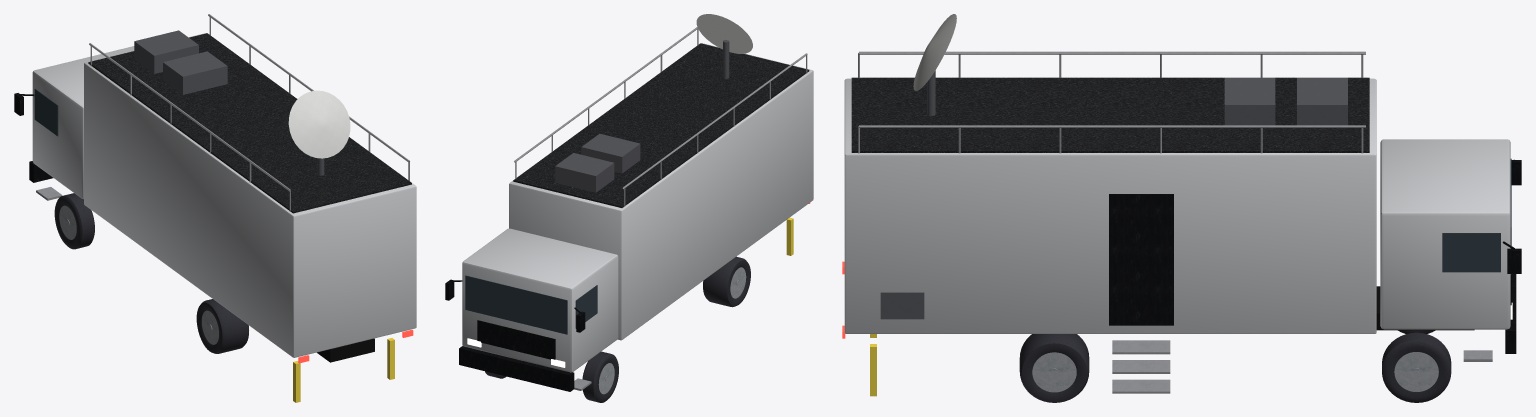
Rendered from ob_van_silver.gltf.
3 views of the same model, side by side, from view 1: azimuth 30°, elevation 25°; view 2: azimuth 150°, elevation 25°; view 3: azimuth 270°, elevation 25° (orthographic). The views are drawn at different scales.
Parts seen in each view (by area): view 1: ob_van_silver; view 2: ob_van_silver; view 3: ob_van_silver.
Part boxes in pixels (x1,y1,x2,y2): ob_van_silver: [14, 14, 416, 402]; ob_van_silver: [445, 14, 813, 402]; ob_van_silver: [842, 14, 1521, 402].
Bounding box in the file's own units: 3.16 × 5.29 × 9.38.
15 materials, 9 textured.
